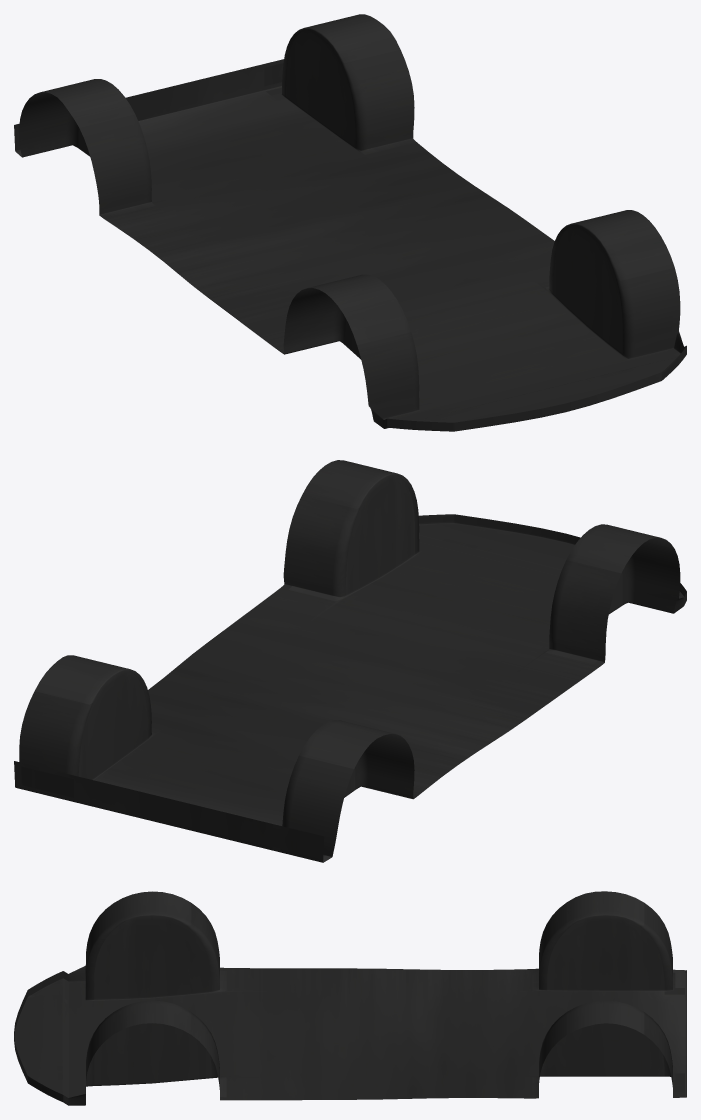
Rendered from rcfUnderCarriage.obj.
3 renders of one model, top to bottom at view 1: azimuth 30°, elevation 25°; view 2: azimuth 150°, elevation 25°; view 3: azimuth 270°, elevation 25°, orthographic. The views are drawn at different scales.
Parts seen in each view (by area): view 1: rcfUnderCarriage; view 2: rcfUnderCarriage; view 3: rcfUnderCarriage.
Boxes of the visible parts, left/top/right/bottom form: rcfUnderCarriage: left=14, top=14, right=686, bottom=431; rcfUnderCarriage: left=14, top=460, right=686, bottom=862; rcfUnderCarriage: left=14, top=891, right=686, bottom=1105.
Size of the model in its own units: 180 by 54.52 by 385.
1 material, 1 textured.
